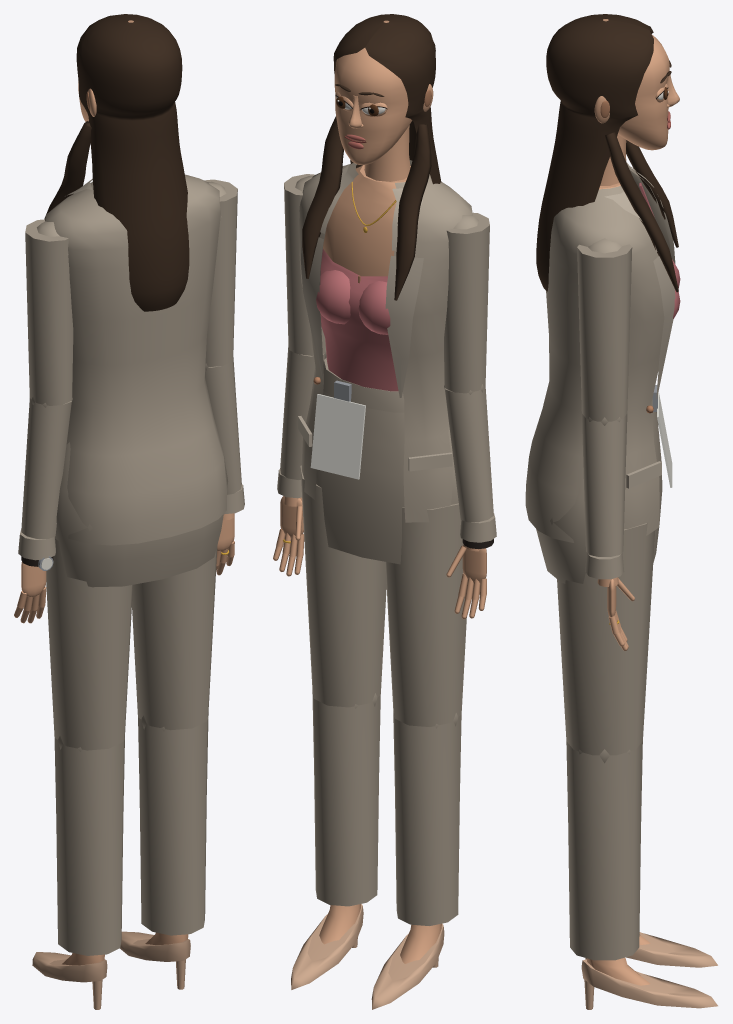
The model's file is office-woman.glb.
3 views of the same model, side by side, from view 1: azimuth 30°, elevation 25°; view 2: azimuth 150°, elevation 25°; view 3: azimuth 270°, elevation 25° (orthographic). The views are drawn at different scales.
Parts seen in each view (by area): view 1: Jacket, Hair, Knee_R, Knee_L, Leg_L, Leg_R, Shoulder_L, Trousers, Elbow_L, Shoulder_R, Elbow_R, Face (+6 smaller); view 2: Jacket, Leg_L, Spine, Knee_R, Knee_L, Leg_R, Trousers, Shoulder_L, Face, Hair, Skull, Torso (+14 smaller); view 3: Jacket, Leg_R, Hair, Knee_R, Shoulder_R, Elbow_R, Face, Trousers, Skull, Spine, Shoe_R, Shoe_L (+3 smaller).
Part boxes in pixels (x1,y1,x2,y2): Jacket: [45, 174, 226, 545]; Hair: [76, 14, 189, 311]; Knee_R: [138, 712, 208, 935]; Knee_L: [54, 734, 124, 955]; Leg_L: [46, 538, 132, 750]; Leg_R: [132, 546, 217, 730]; Shoulder_L: [25, 219, 73, 405]; Trousers: [55, 442, 227, 587]; Elbow_L: [21, 396, 72, 538]; Shoulder_R: [204, 179, 237, 366]; Elbow_R: [205, 356, 241, 494]; Face: [44, 88, 96, 218]; Jacket: [299, 160, 472, 522]; Leg_L: [385, 503, 466, 726]; Spine: [298, 165, 452, 471]; Knee_R: [312, 690, 380, 906]; Knee_L: [393, 711, 461, 925]; Leg_R: [300, 465, 386, 707]; Trousers: [316, 358, 461, 564]; Shoulder_L: [444, 212, 489, 393]; Face: [302, 84, 433, 300]; Hair: [333, 14, 441, 184]; Skull: [334, 20, 412, 165]; Torso: [320, 249, 398, 391]; Jacket: [525, 167, 670, 542]; Leg_R: [557, 523, 655, 755]; Hair: [536, 14, 653, 291]; Knee_R: [566, 741, 642, 960]; Shoulder_R: [577, 238, 632, 421]; Elbow_R: [582, 414, 627, 556]; Face: [594, 60, 679, 292]; Trousers: [536, 412, 662, 583]; Skull: [603, 19, 669, 150]; Spine: [599, 165, 680, 488]; Shoe_R: [581, 959, 717, 1008]; Shoe_L: [626, 932, 717, 967].
Bounding box in the file's own units: 1.43 × 6.01 × 1.08.
